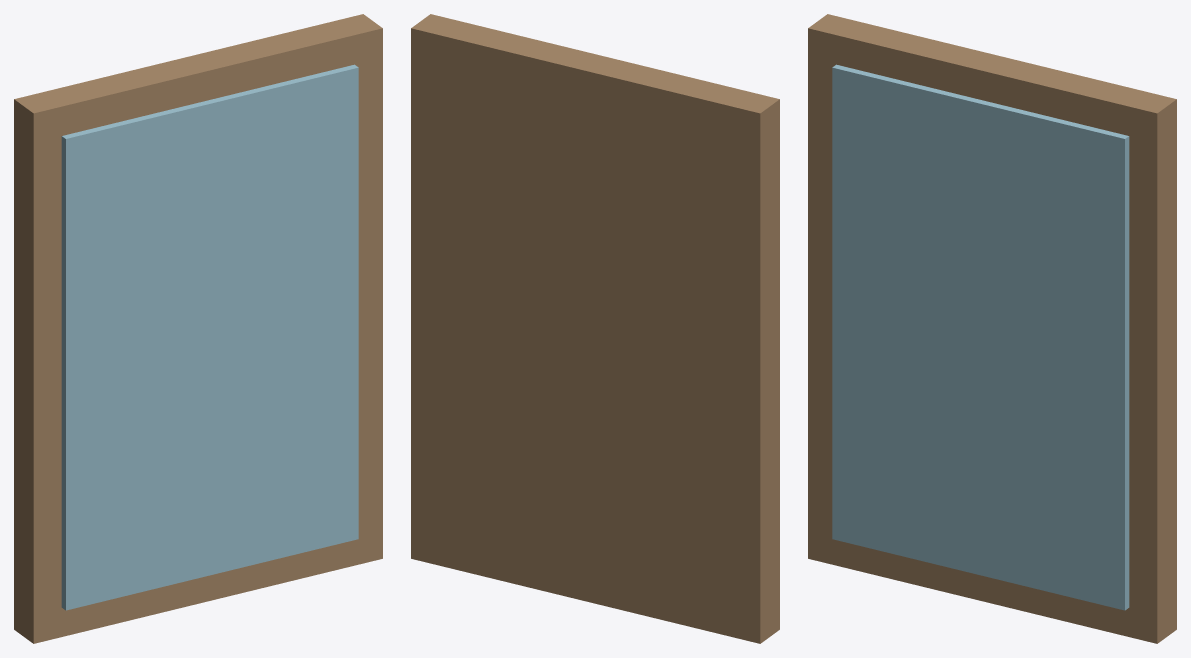
3 renders of one model, left to right at view 1: azimuth 30°, elevation 25°; view 2: azimuth 150°, elevation 25°; view 3: azimuth 330°, elevation 25°, orthographic.
Parts seen in each view (by area): view 1: Mirror, Frame; view 2: Frame; view 3: Mirror, Frame.
Boxes of the visible parts, x1=… form: Mirror: x1=61, y1=64, x2=358, y2=610; Frame: x1=14, y1=14, x2=382, y2=643; Frame: x1=411, y1=14, x2=779, y2=643; Mirror: x1=832, y1=64, x2=1129, y2=610; Frame: x1=808, y1=14, x2=1176, y2=643.
Size of the model in its own units: 0.62 by 0.9 by 0.0725.
